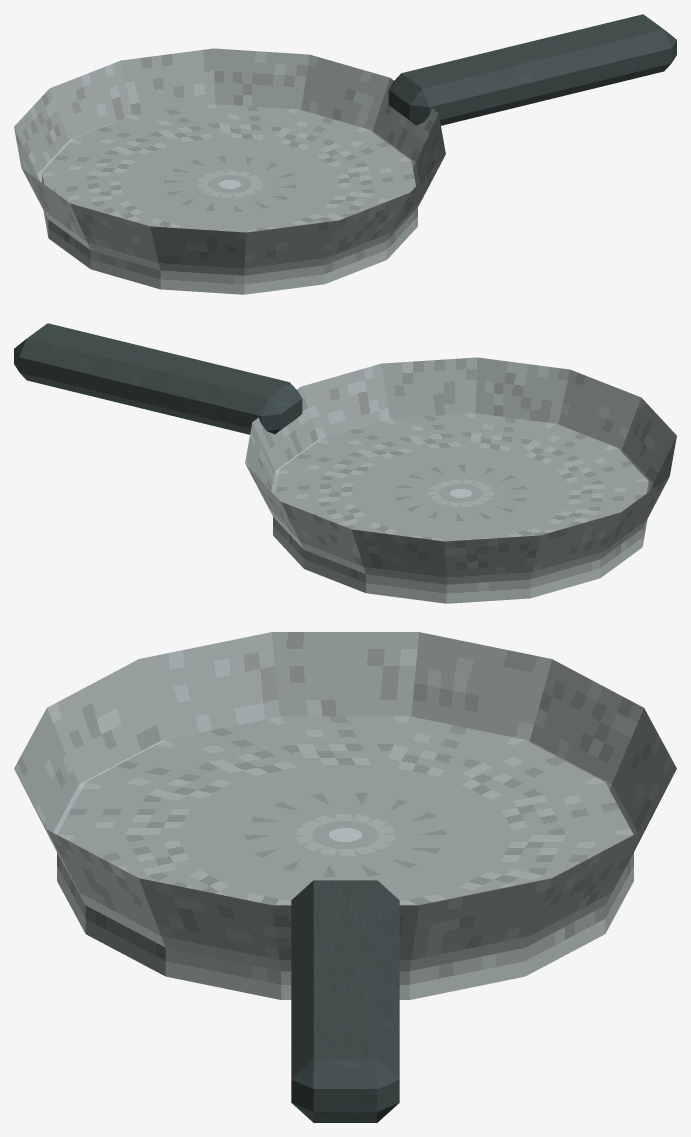
Rendered from steel_pan.glb.
The picture shows the model from 3 angles, top to bottom: view 1: azimuth 30°, elevation 25°; view 2: azimuth 150°, elevation 25°; view 3: azimuth 270°, elevation 25°; orthographic projection. The views are drawn at different scales.
Visible parts, largest first — view 1: block_pressed base, block_vessel wall, block_handle; view 2: block_pressed base, block_vessel wall, block_handle; view 3: block_pressed base, block_vessel wall, block_handle.
Part boxes in pixels (x1,y1,x2,y2): block_pressed base: [42, 104, 417, 294]; block_vessel wall: [14, 48, 445, 275]; block_handle: [388, 14, 676, 125]; block_pressed base: [273, 413, 648, 603]; block_vessel wall: [245, 357, 676, 584]; block_handle: [14, 323, 302, 434]; block_pressed base: [57, 716, 633, 999]; block_vessel wall: [14, 632, 676, 971]; block_handle: [291, 880, 399, 1122].
Size of the model in its own units: 0.35 by 0.0482 by 0.2132.
2 materials, 2 textured.
